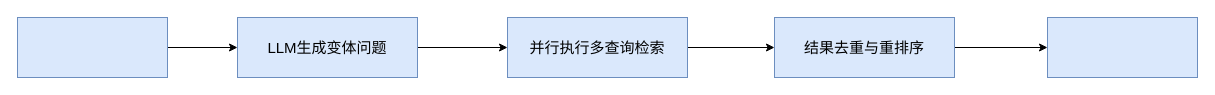
Image size: 1215x95. Some labels were removed from this diagram. The shapes that lost their labels are listed below. From the top down, each one's centre as x and y in pixels, then its label:
(x=92, y=47): 原始问题
(x=1122, y=47): 最终输出
